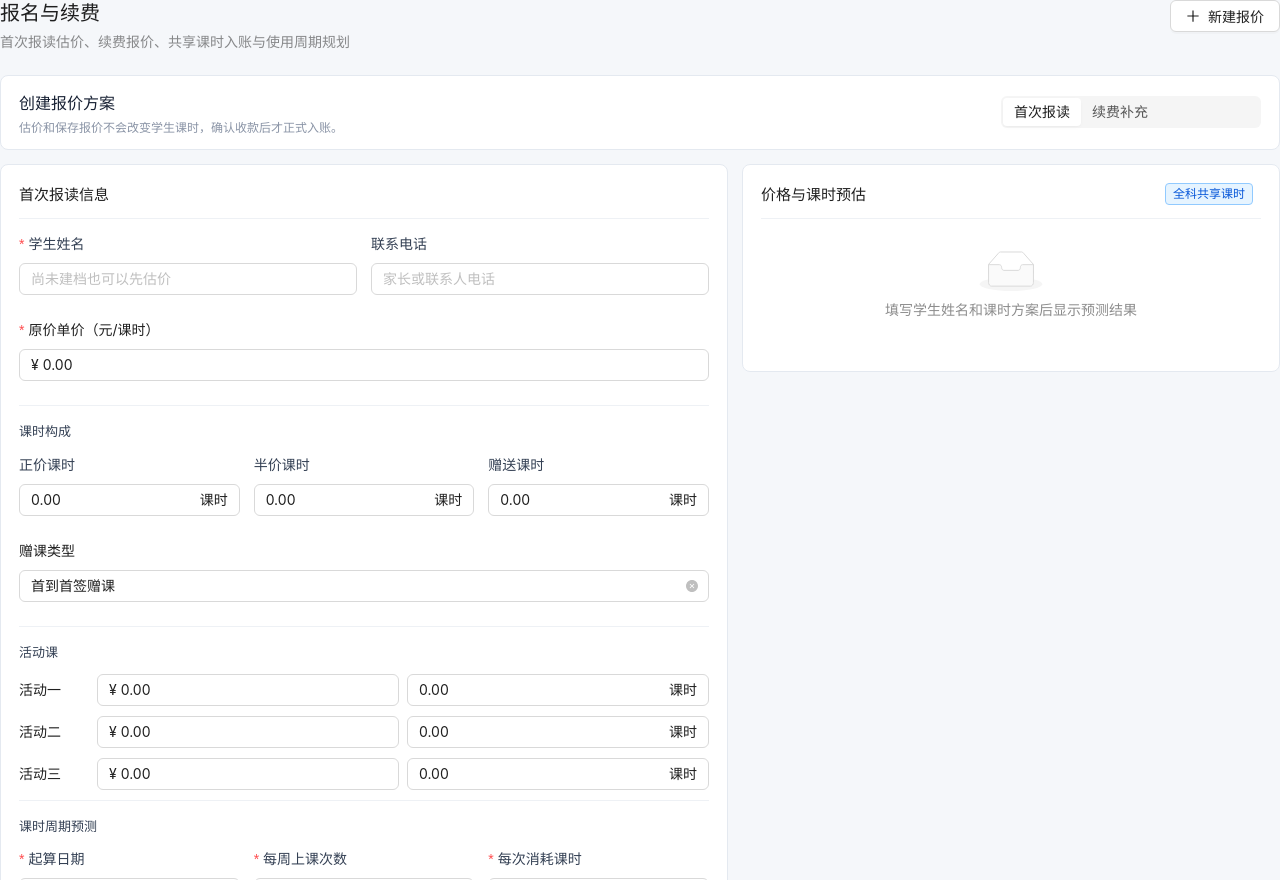
Test: EnrollmentPage › calculates a first-enrollment quote and switches to renewal mode
In the field labelled "学生姓名": (188, 279) x1=19 y1=263 x2=357 y2=295, type "报价测试学生"
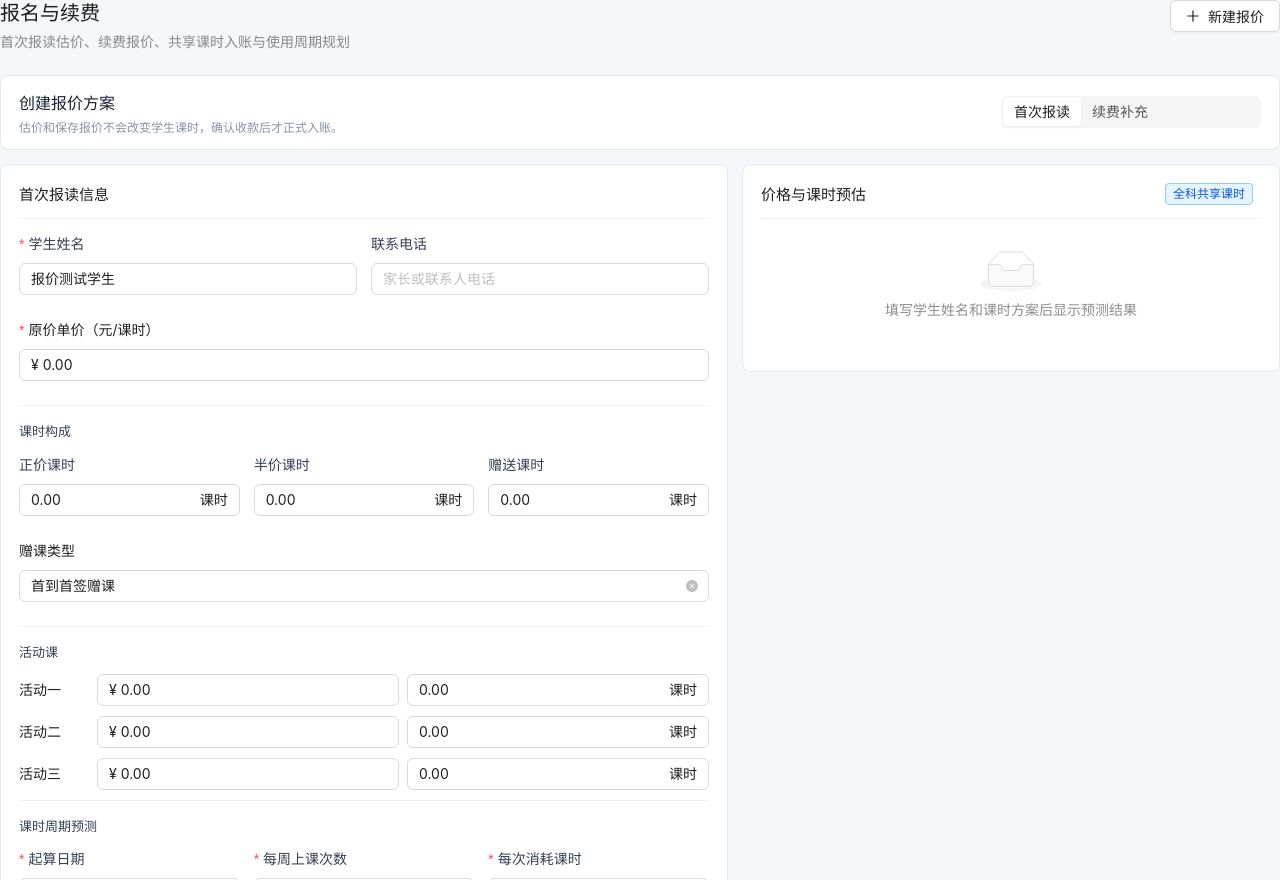
Replace the text in the number field labelled "原价单价（元/课时）" with "200": (375, 365) x1=43 y1=350 x2=708 y2=380
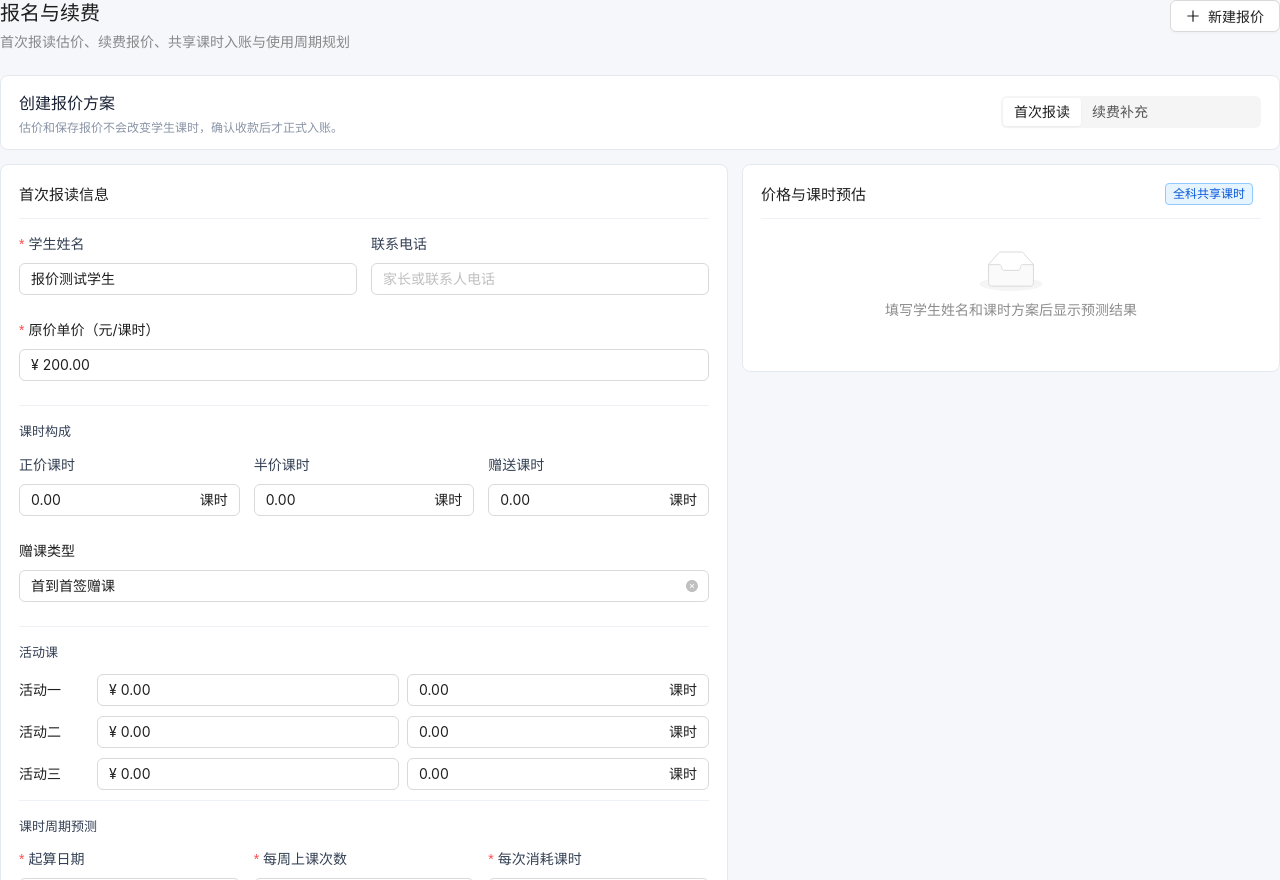
Replace the text in the number field labelled "正价课时" with "10": (113, 500) x1=31 y1=485 x2=196 y2=515
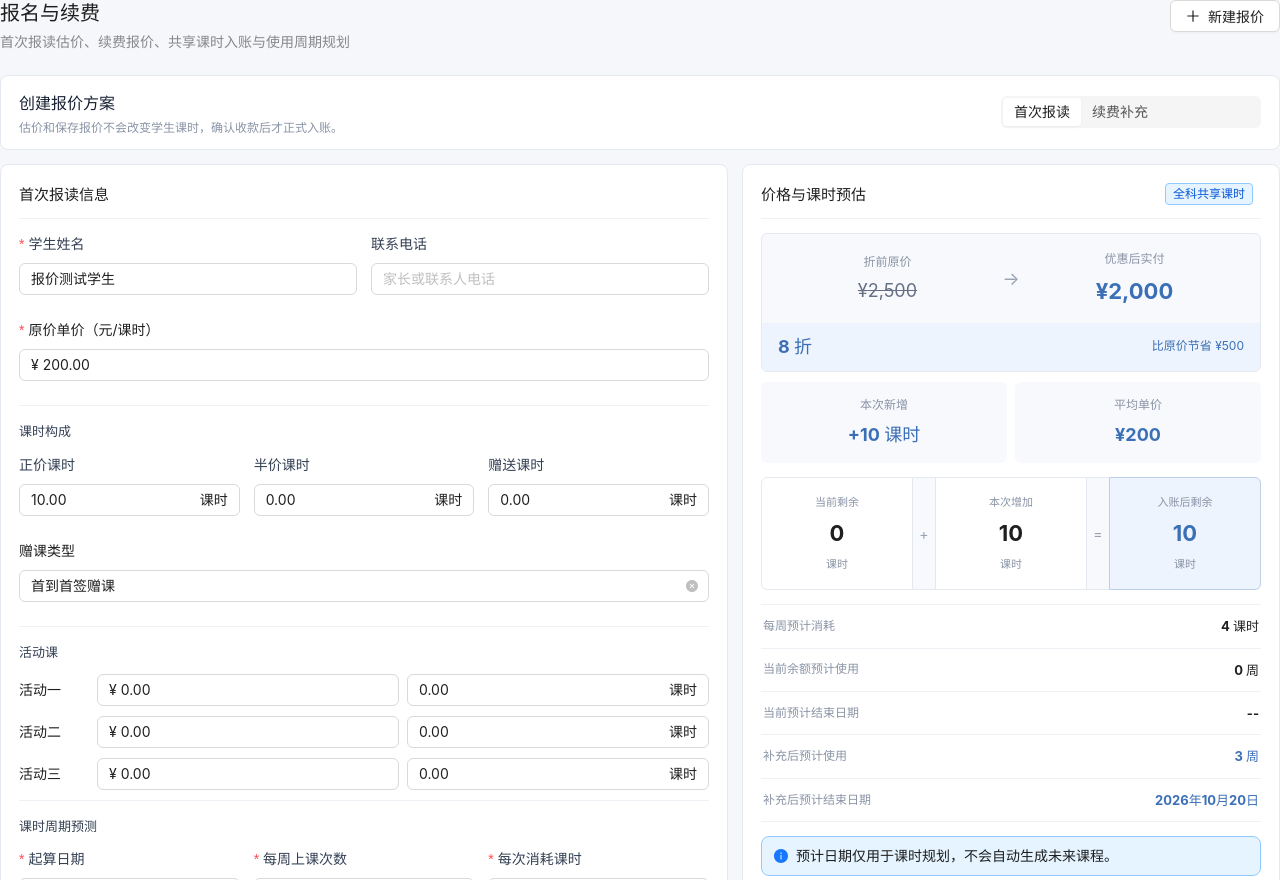
Result: the text "+10 课时" is shown at x1=848 y1=424 x2=920 y2=445
Result: the text "折前原价" is shown at x1=863 y1=254 x2=911 y2=269
Result: the text "¥2,500" is shown at x1=858 y1=280 x2=917 y2=301
Click the text "续费补充": (1120, 112) x1=1092 y1=103 x2=1148 y2=120
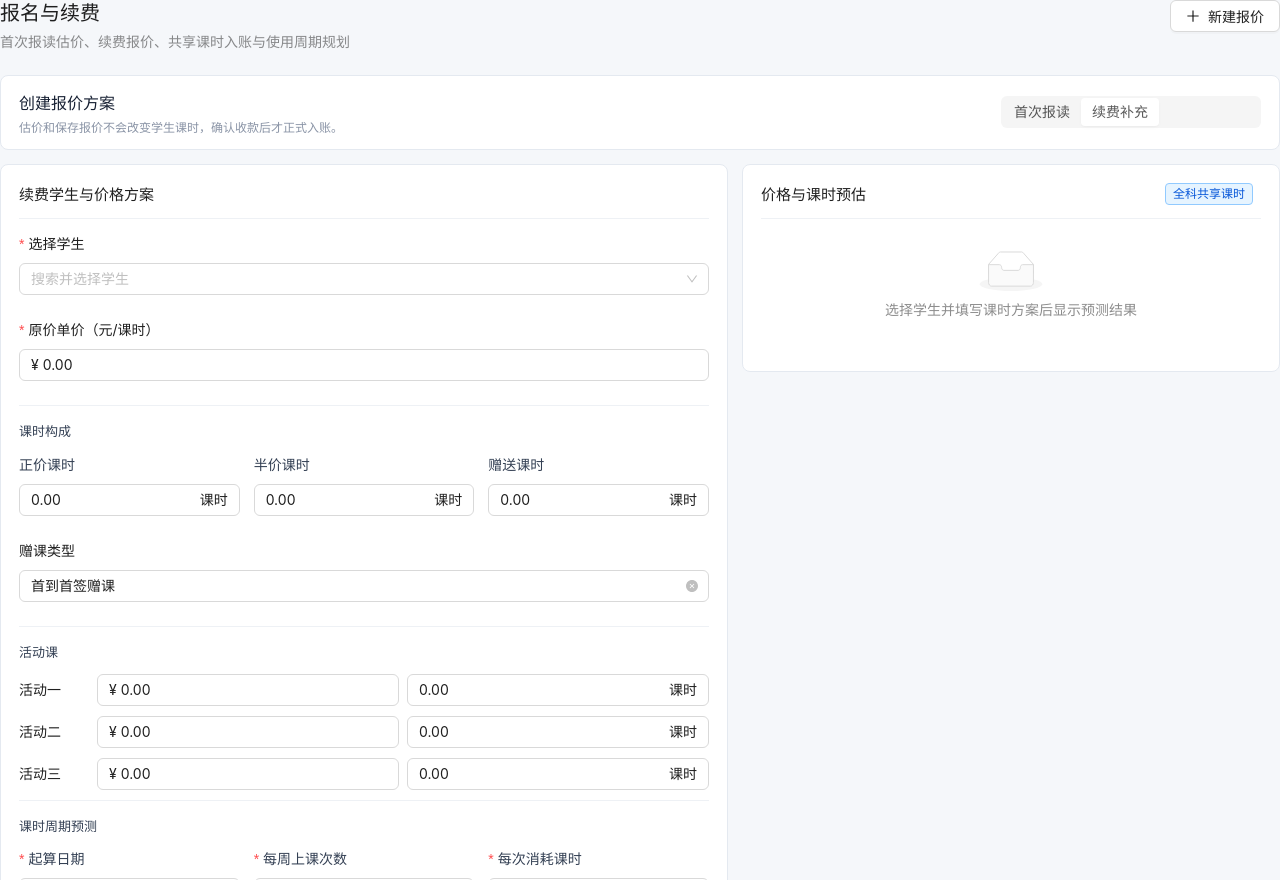
Expected: the text "全科共享课时" is shown, x1=1165 y1=183 x2=1253 y2=205
Result: the text "选择学生" is shown at x1=19 y1=233 x2=98 y2=255
